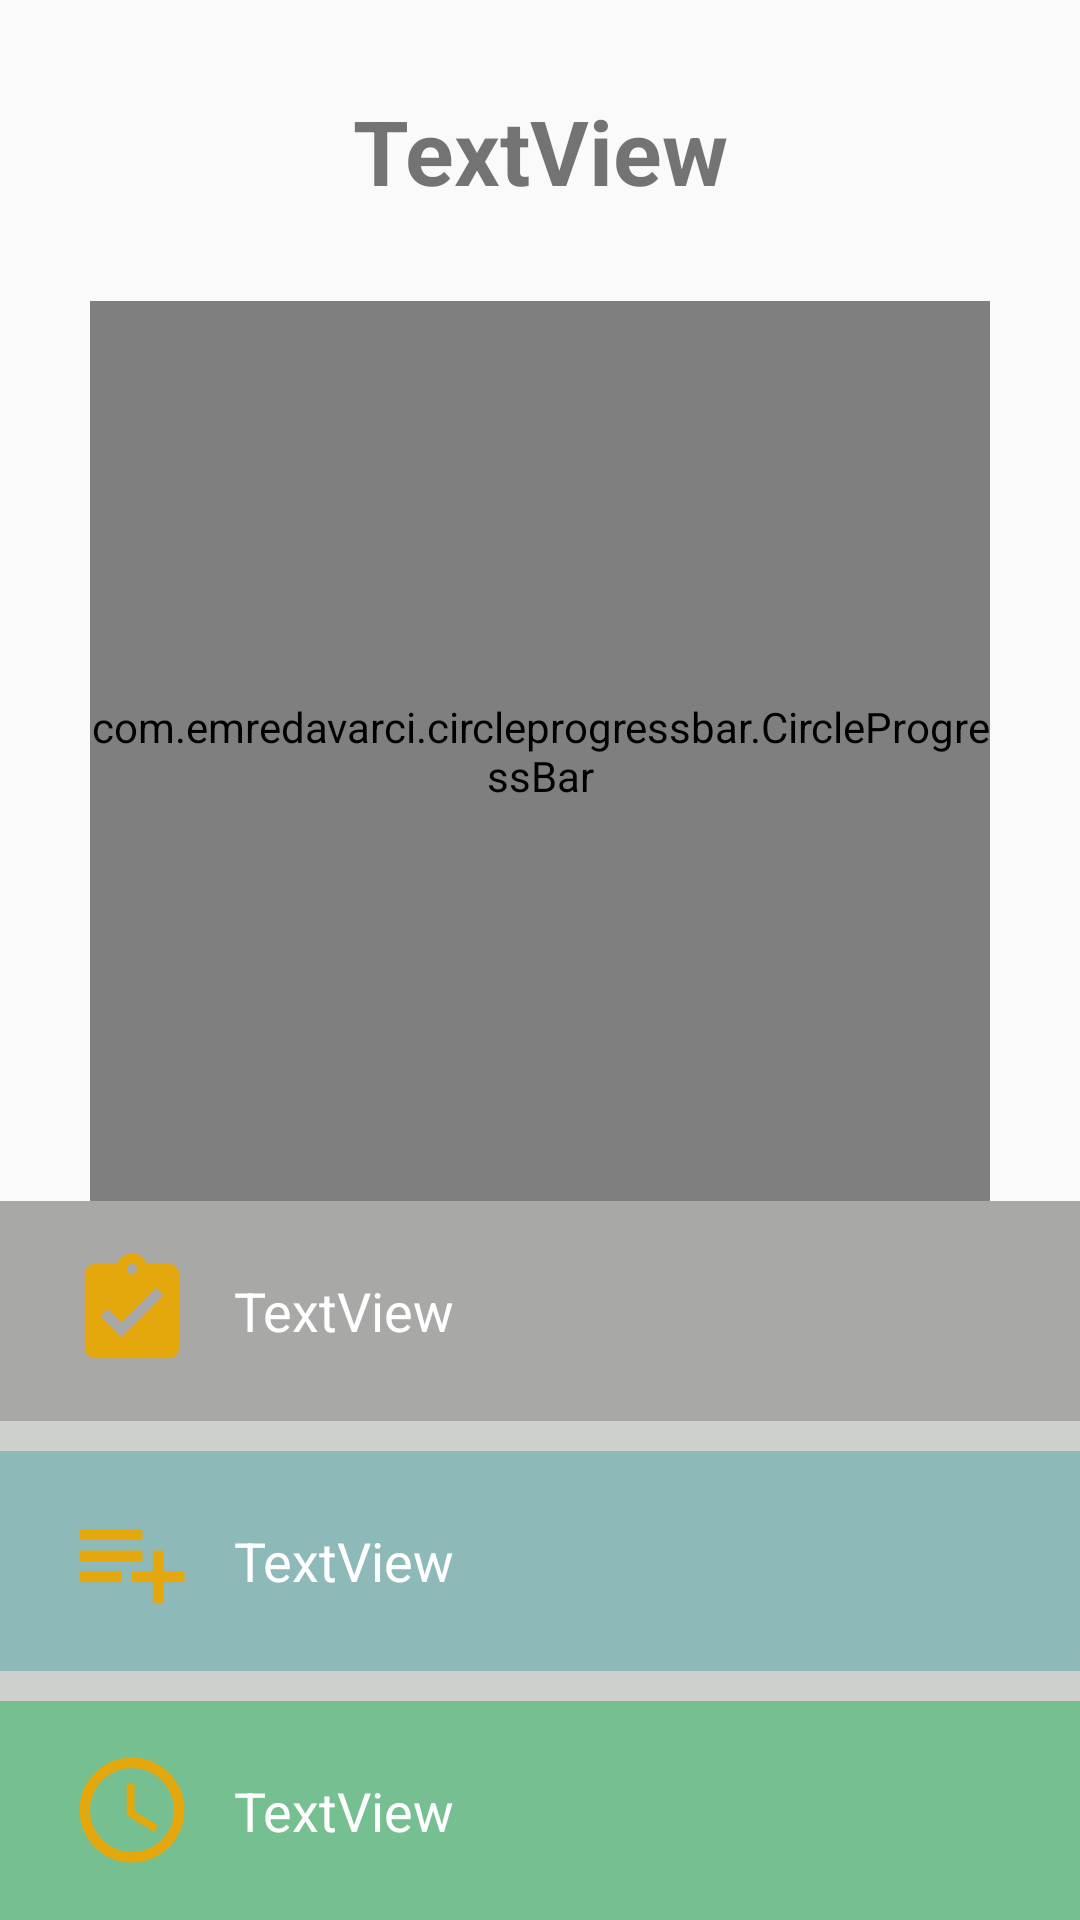

Icon click points for this 1080px×1920px phone screenshot, format [x,y]:
completed: [132,1306]
list: [132,1566]
time: [132,1810]
